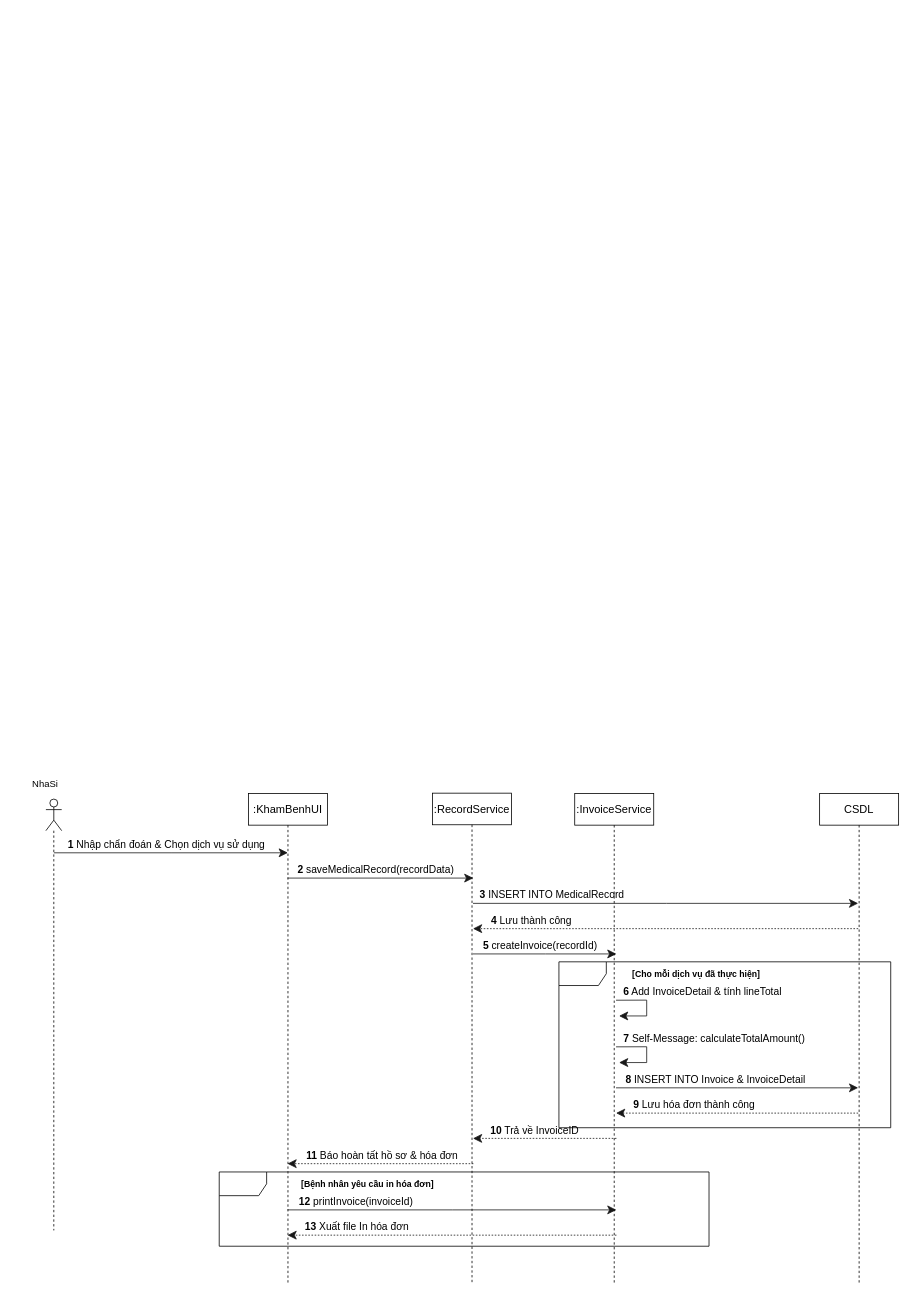
Some shapes in this 912 by 1297 pixel diagram are drawn without their labels. Here are the shapes that lost their labels. From the top down, the centre of each, then its label:
the point at 724,1044: loop
the point at 463,1208: opt
